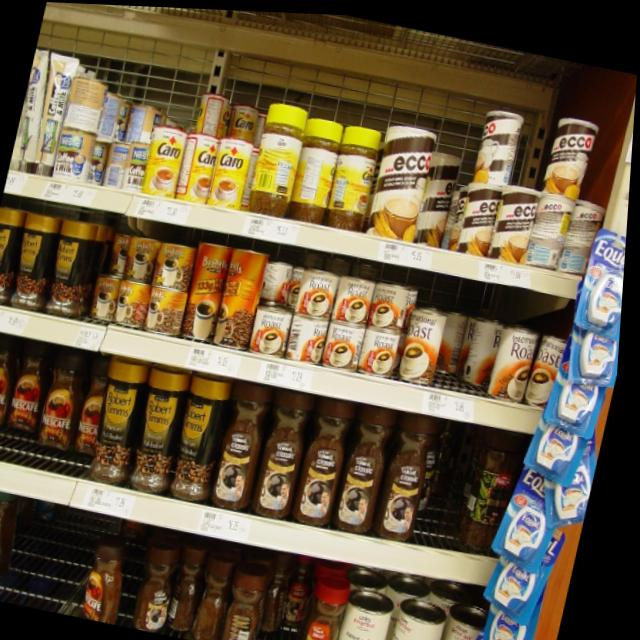q13: (38, 343, 98, 473), (76, 523, 149, 625), (75, 344, 128, 476), (6, 335, 62, 452), (0, 331, 26, 445)
